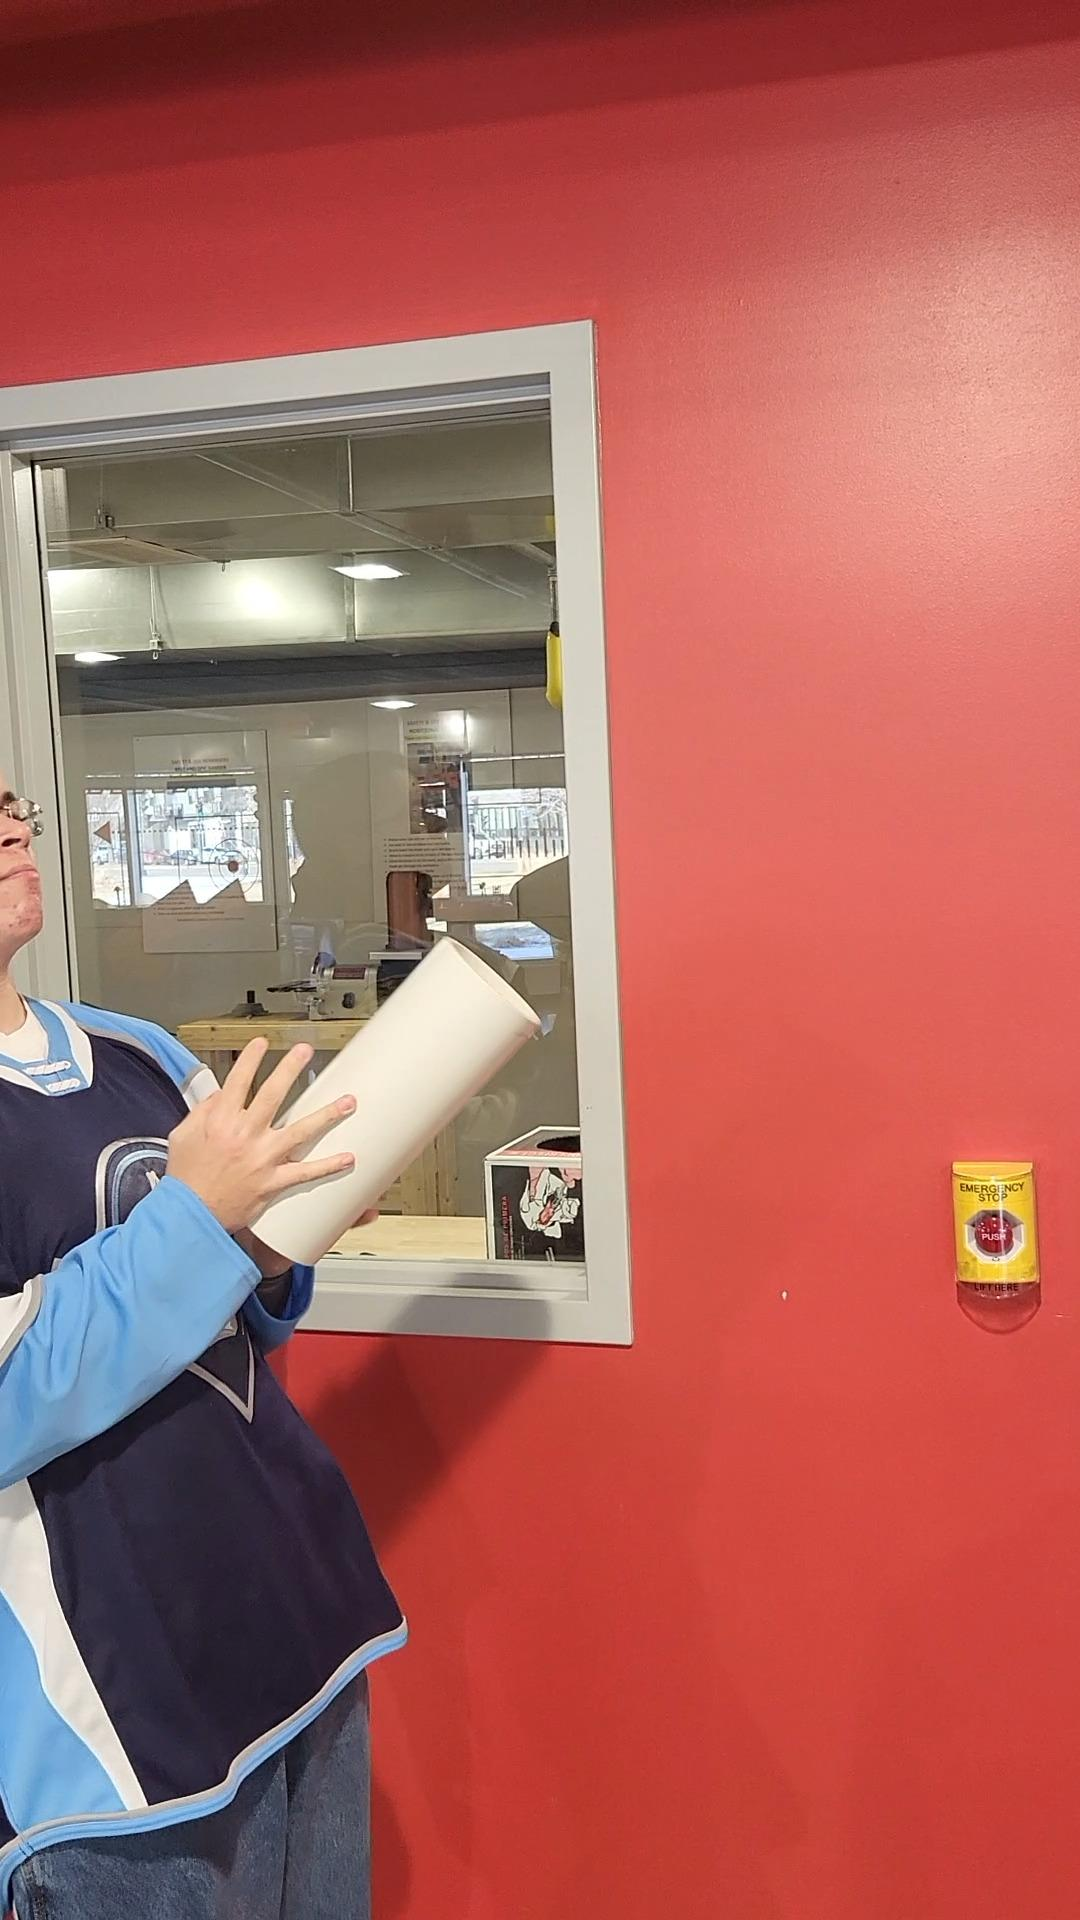coral: (220, 934, 533, 1283)
